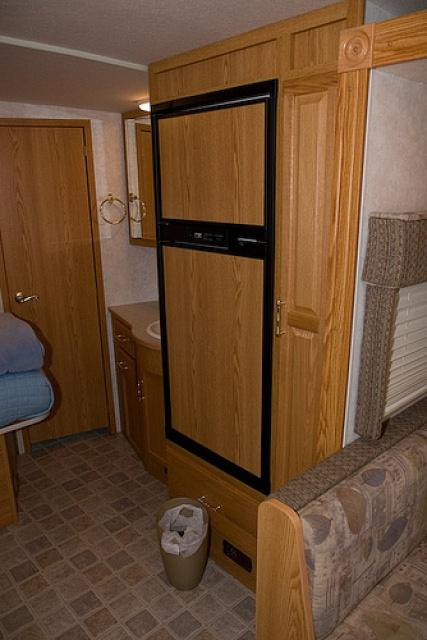Lemari: (146, 4, 364, 547)
